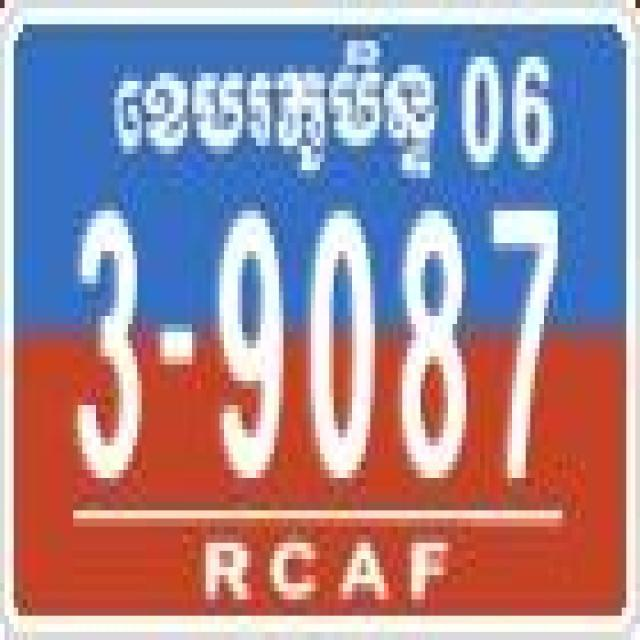RCAF: (105, 41, 441, 192)
